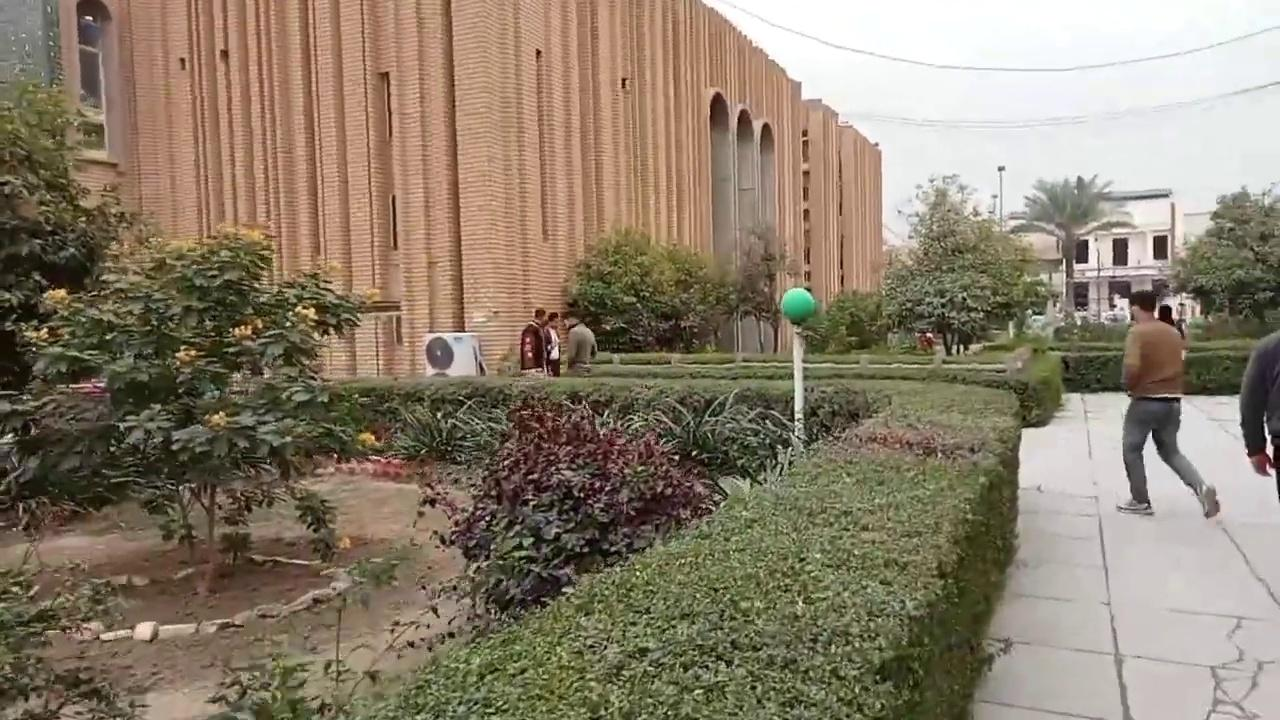person: (1115, 288, 1220, 519), (1239, 329, 1279, 501), (564, 314, 597, 375), (519, 308, 549, 374), (543, 311, 561, 376), (1157, 304, 1184, 338)
tree: (8, 221, 369, 573), (414, 392, 720, 623), (0, 74, 151, 396), (876, 174, 1047, 356), (563, 225, 722, 353), (1006, 172, 1137, 321), (1163, 182, 1279, 331), (712, 225, 798, 353)
